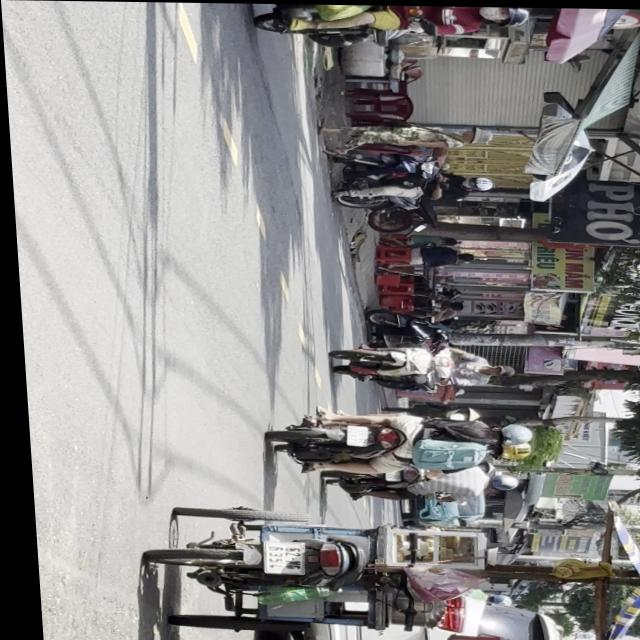helmet: (485, 421, 528, 444), (479, 6, 531, 25), (484, 440, 527, 459), (480, 471, 513, 490), (462, 174, 491, 190)
licenseplate: (260, 404, 533, 477), (239, 3, 534, 45), (322, 338, 513, 392), (318, 461, 516, 504)
motorcyclist: (480, 362, 510, 376)
nohelmet: (256, 541, 297, 573), (339, 425, 363, 445)
